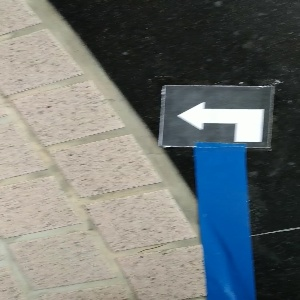left: (159, 84, 272, 148)
